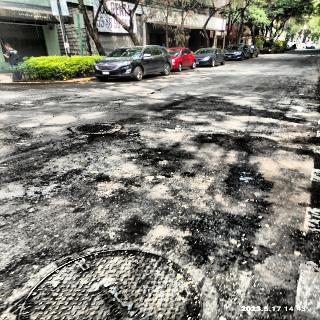pothole: (87, 131, 117, 144)
